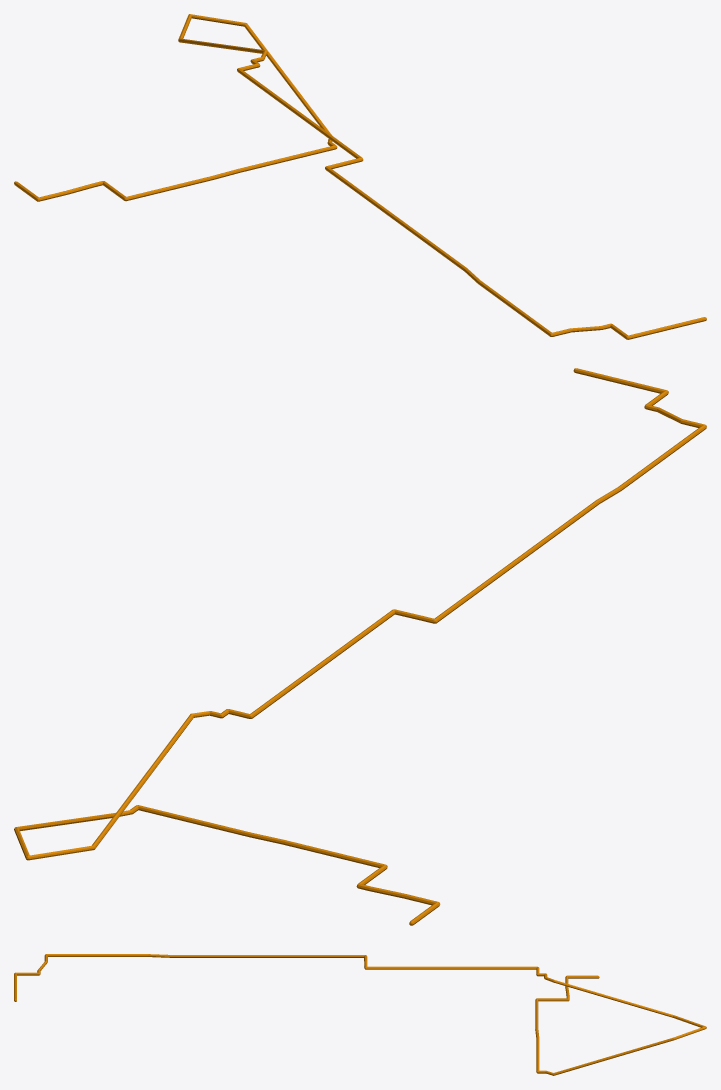
The picture shows the model from 3 angles, top to bottom: view 1: azimuth 30°, elevation 25°; view 2: azimuth 150°, elevation 25°; view 3: azimuth 270°, elevation 25°; orthographic projection. The views are drawn at different scales.
Size of the model in its own units: 1492 by 520 by 4435.
